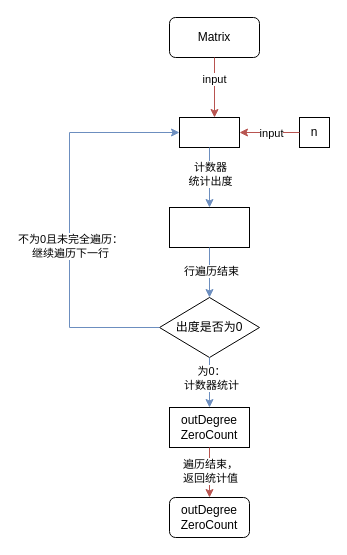
Some shapes in this 347 by 555 pixel diagram are drawn without their labels. The shapes that lost their labels are listed below. From the top down, each one's centre as x and y in pixels, then its label:
At pixel 209 132: "进入 行遍历".
At pixel 209 227: "outDegree".
